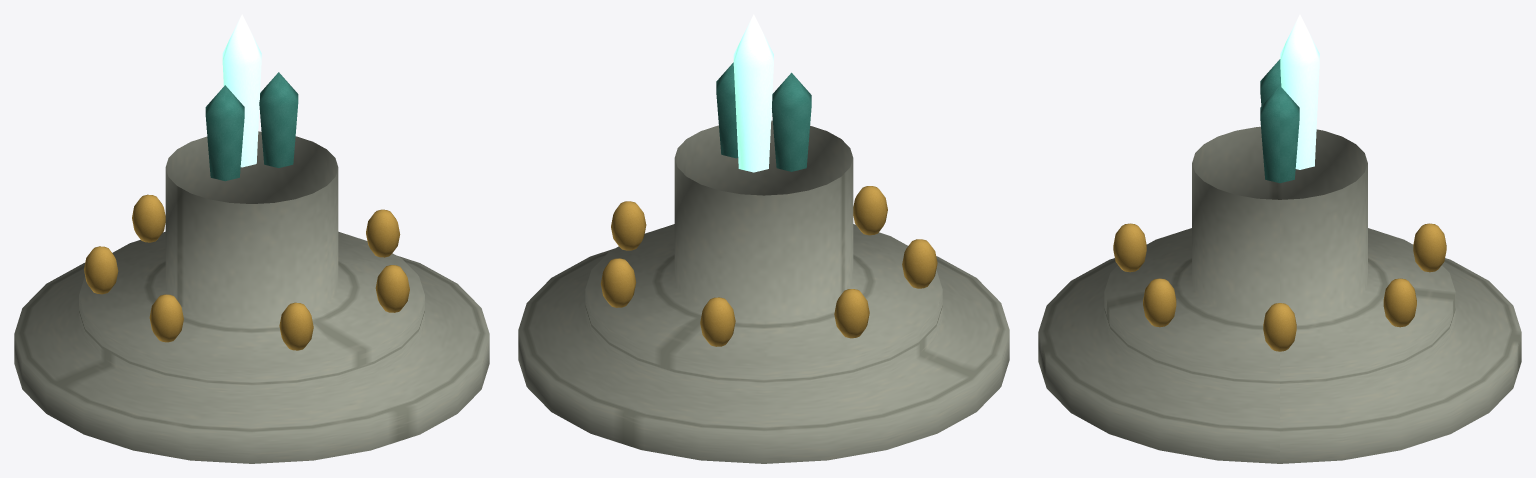
Rendered from shrine.glb.
3 views of the same model, side by side, from view 1: azimuth 30°, elevation 25°; view 2: azimuth 150°, elevation 25°; view 3: azimuth 270°, elevation 25° (orthographic). The views are drawn at different scales.
Parts seen in each view (by area): view 1: shrine; view 2: shrine; view 3: shrine.
Boxes of the visible parts, <box> form: shrine: <box>14,14,489,463</box>; shrine: <box>518,14,1009,463</box>; shrine: <box>1038,14,1521,463</box>.
Bounding box in the file's own units: 2.2 × 1.75 × 2.2.
Materials: 4 (4 with a texture image).
